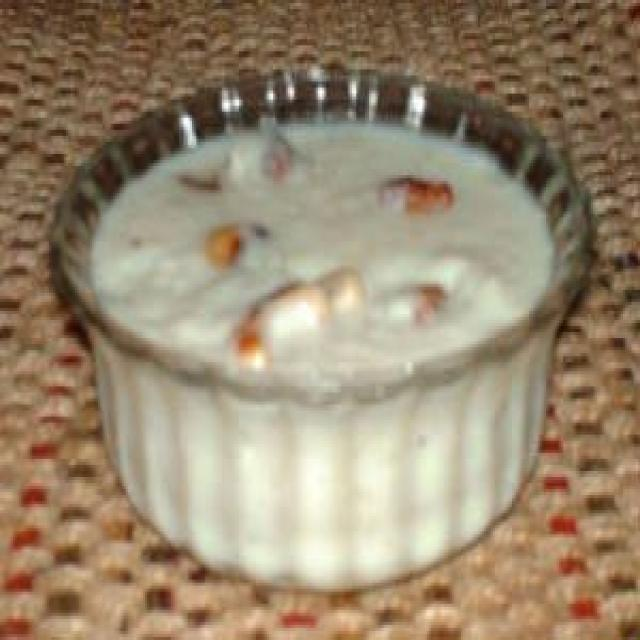Kheer: (89, 110, 566, 556)
